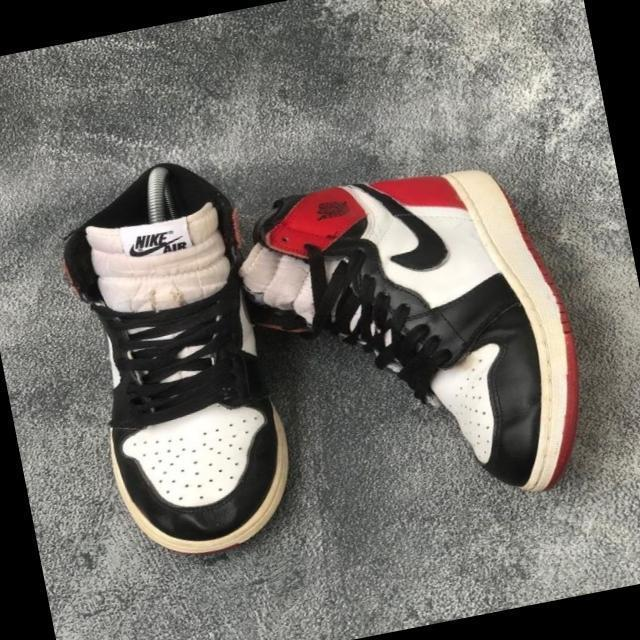nike fake jordan 1: (222, 144, 604, 542), (44, 142, 340, 572)
